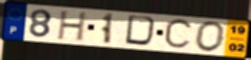1: (100, 11, 116, 46)
8: (28, 9, 54, 39)
C: (162, 17, 195, 52)
D: (123, 14, 160, 49)
H: (56, 10, 90, 43)
O: (194, 20, 227, 54)
